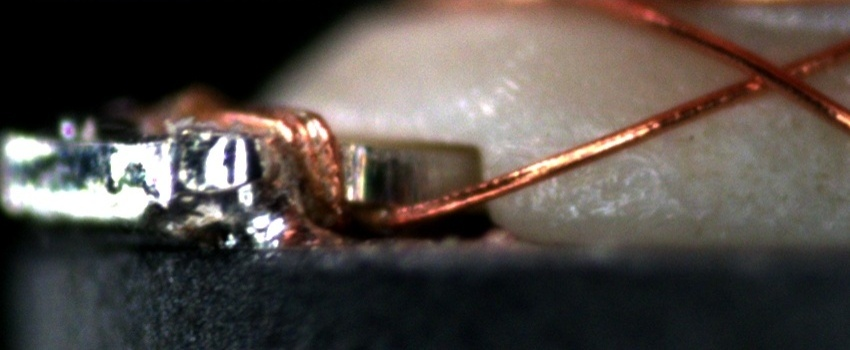CL: (727, 47, 814, 101)
DL: (495, 127, 646, 168)
TE: (183, 89, 365, 221)
